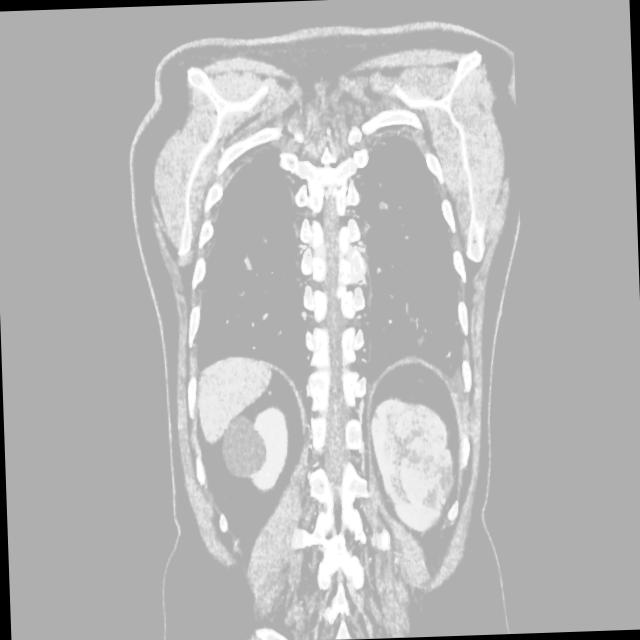TUMOR: (161, 342, 566, 601)
